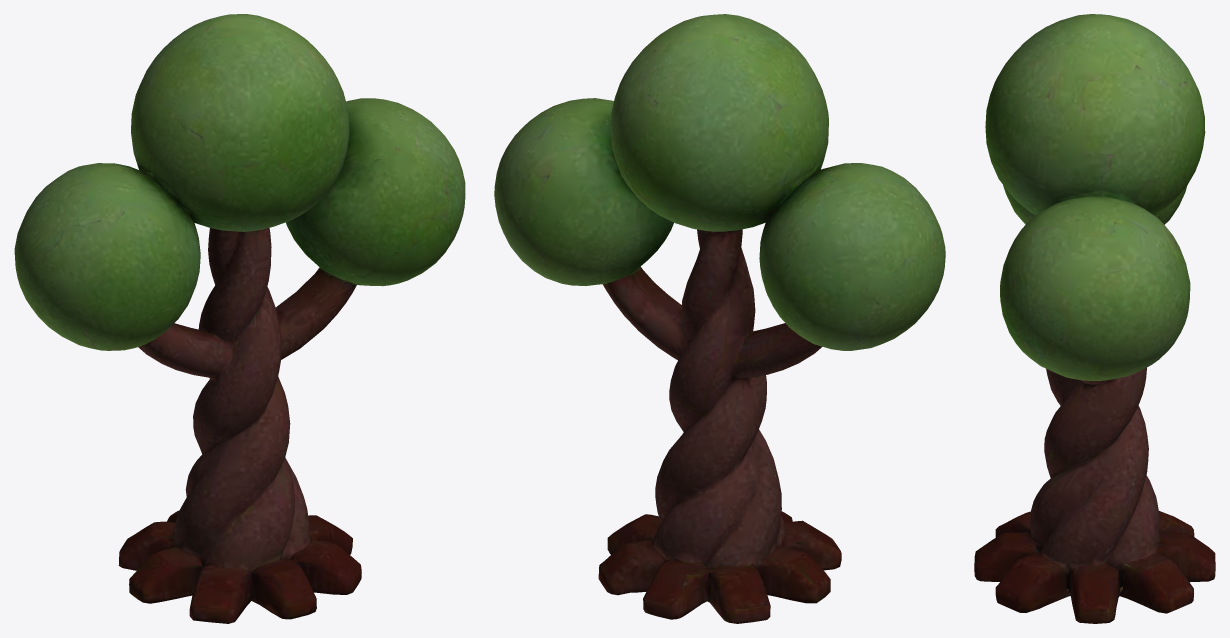
File: Tree.glb
The picture shows the model from 3 angles, left to right: view 1: azimuth 30°, elevation 25°; view 2: azimuth 150°, elevation 25°; view 3: azimuth 270°, elevation 25°; orthographic projection.
Size of the model in its own units: 0.8082 by 1 by 0.3974.
Materials: 1 (1 with a texture image).
